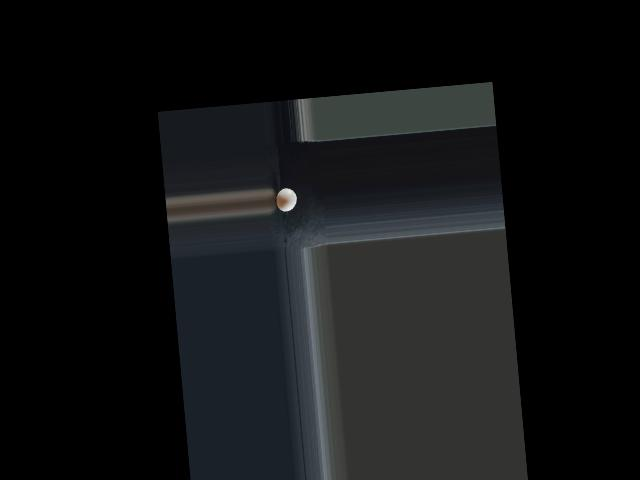egg: (275, 188, 298, 212)
